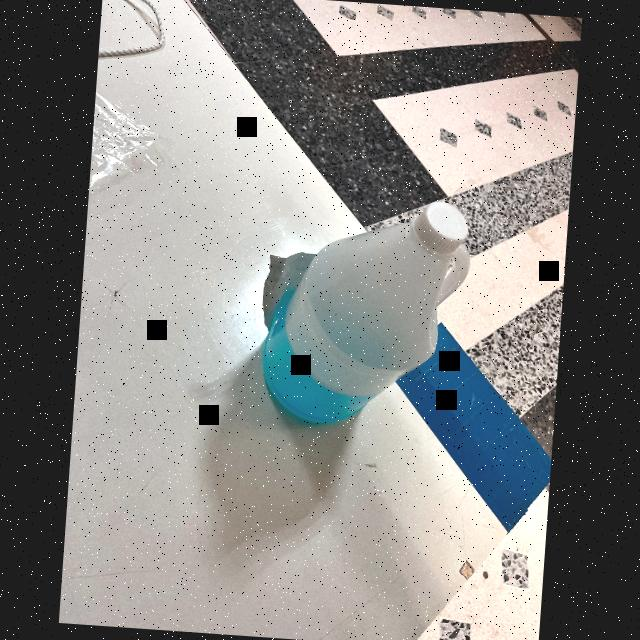chemical_plastic_gallon: (252, 180, 478, 434)
